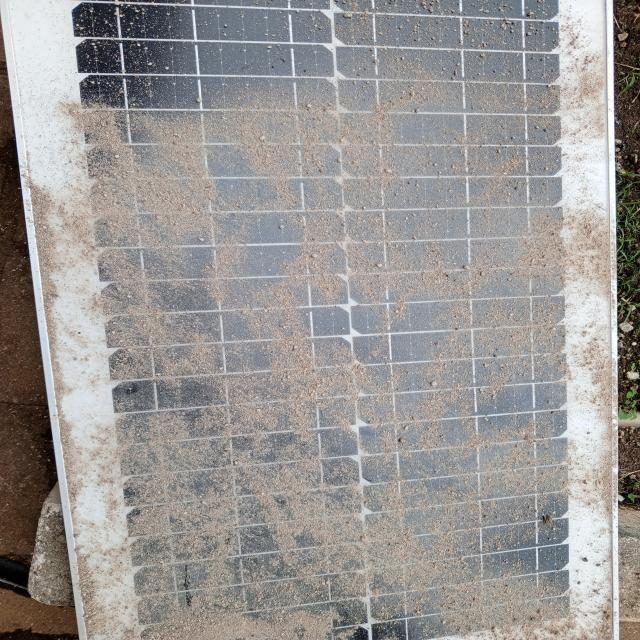Surface Contaminant: (106, 79, 588, 639)
